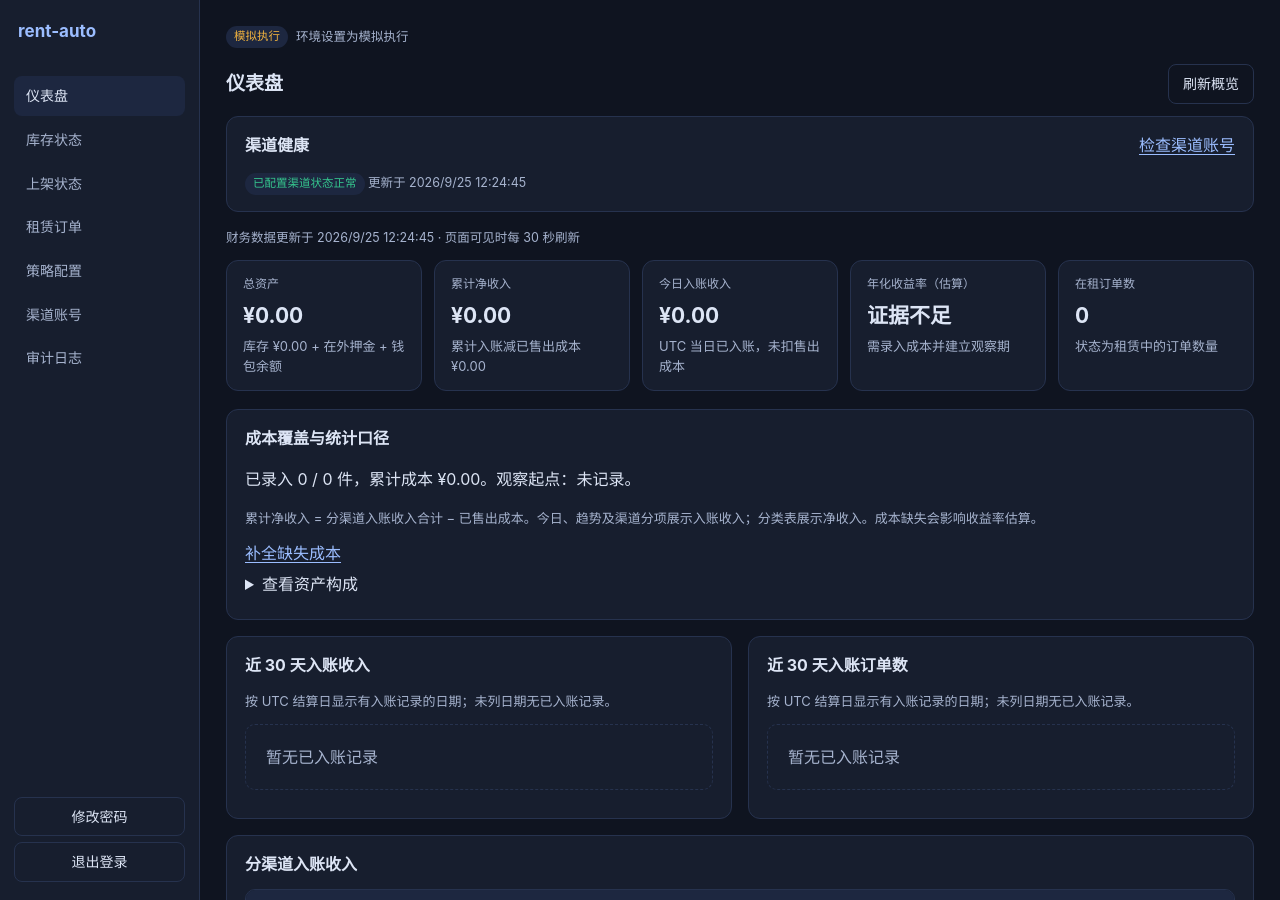
Test case: App auth gate › logout clears the token and returns to login
Expected: the heading "仪表盘" is shown, [226,69,283,98]
Click the button "退出登录" at coordinates (100, 862), box [14,842,185,882]
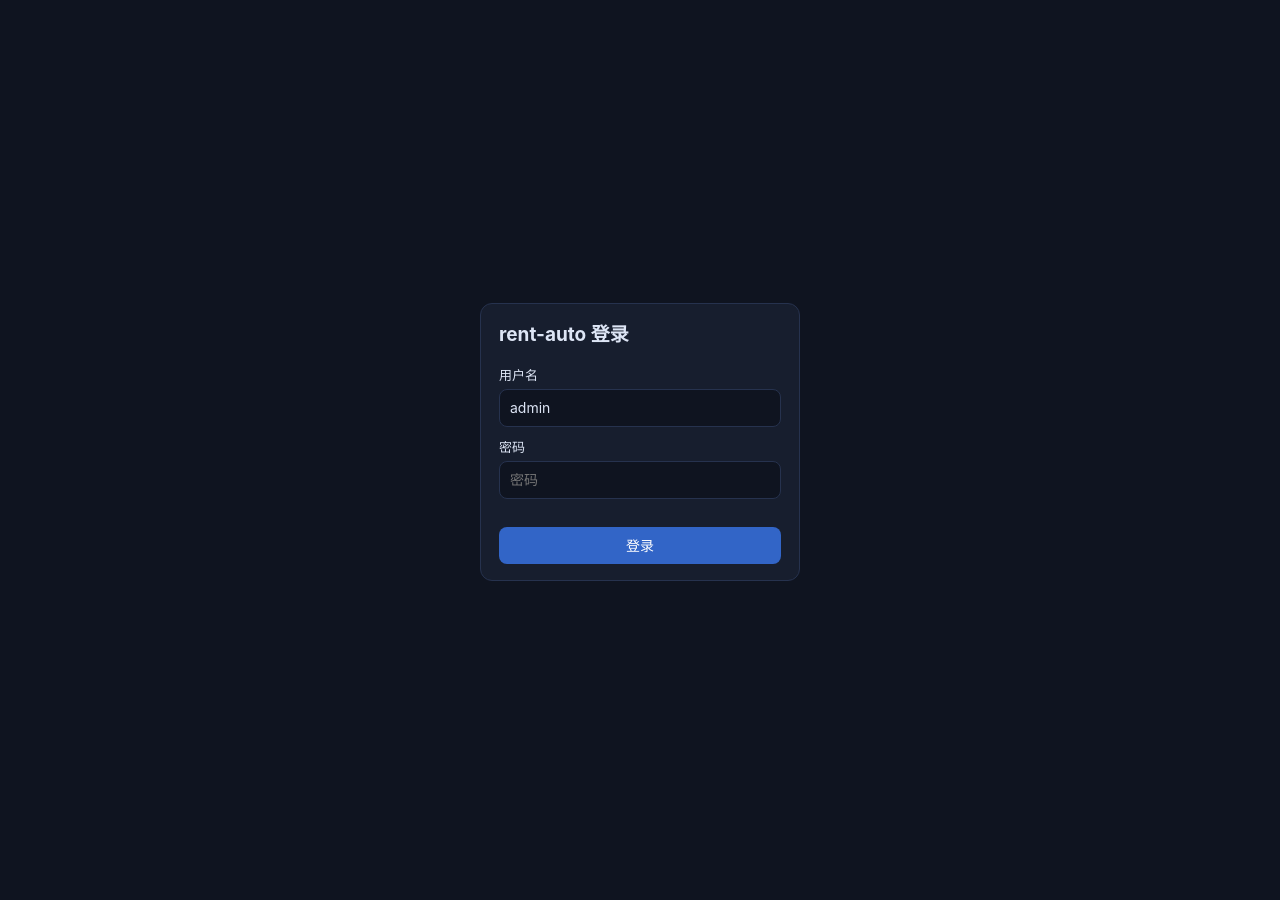
Expected: the heading "rent-auto 登录" is shown, [499,323,629,346]
